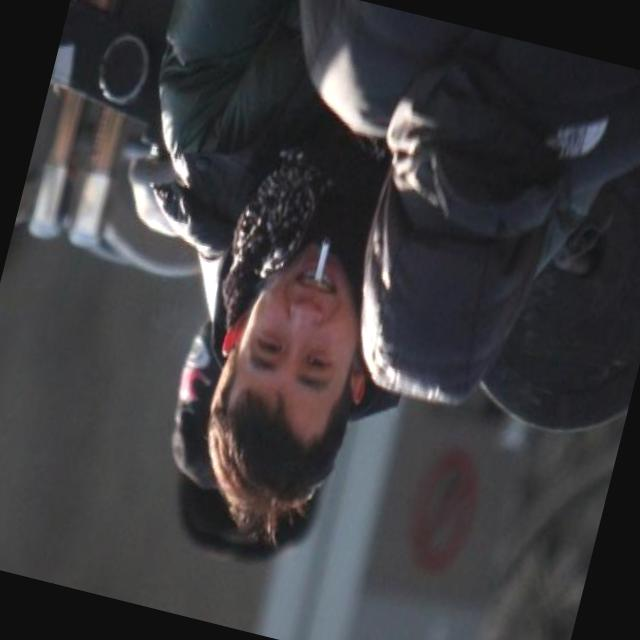smoke: (309, 234, 336, 286)
